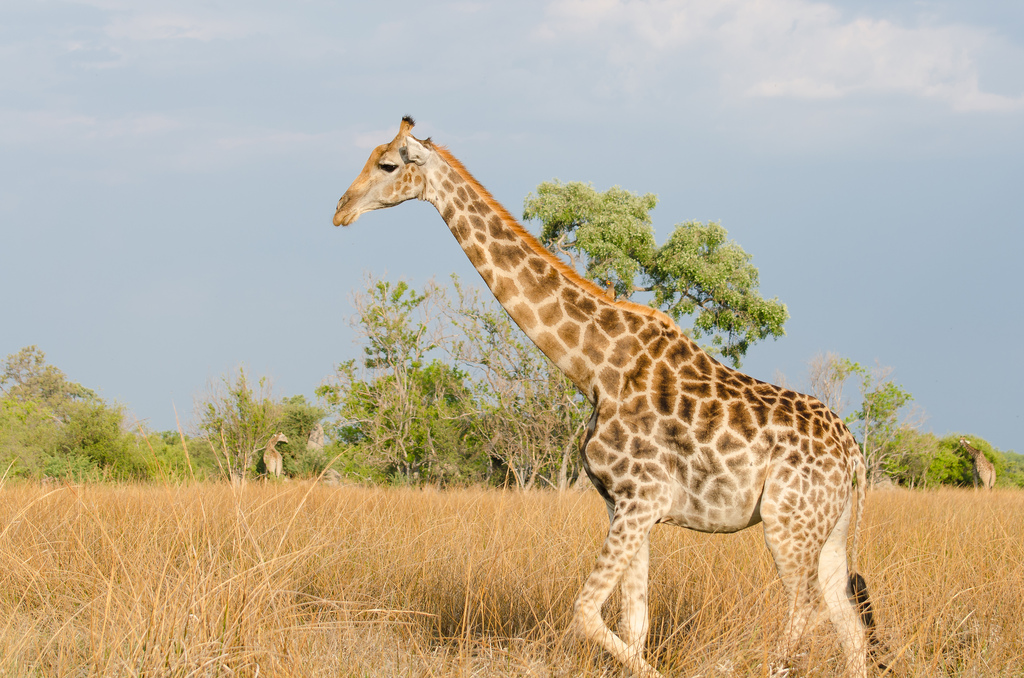giraffe: (331, 110, 895, 672)
